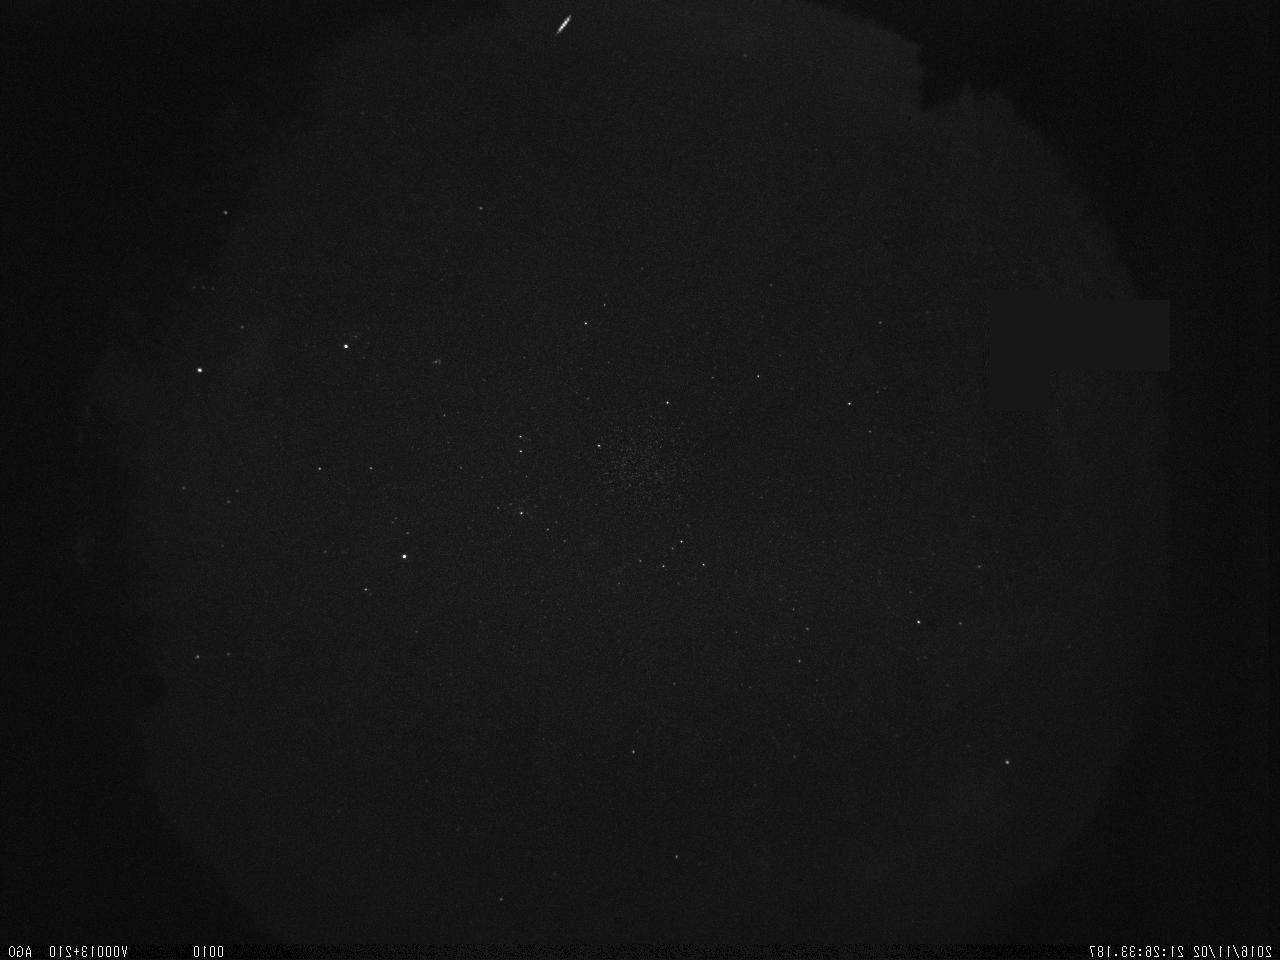meteor: (543, 8, 581, 44)
